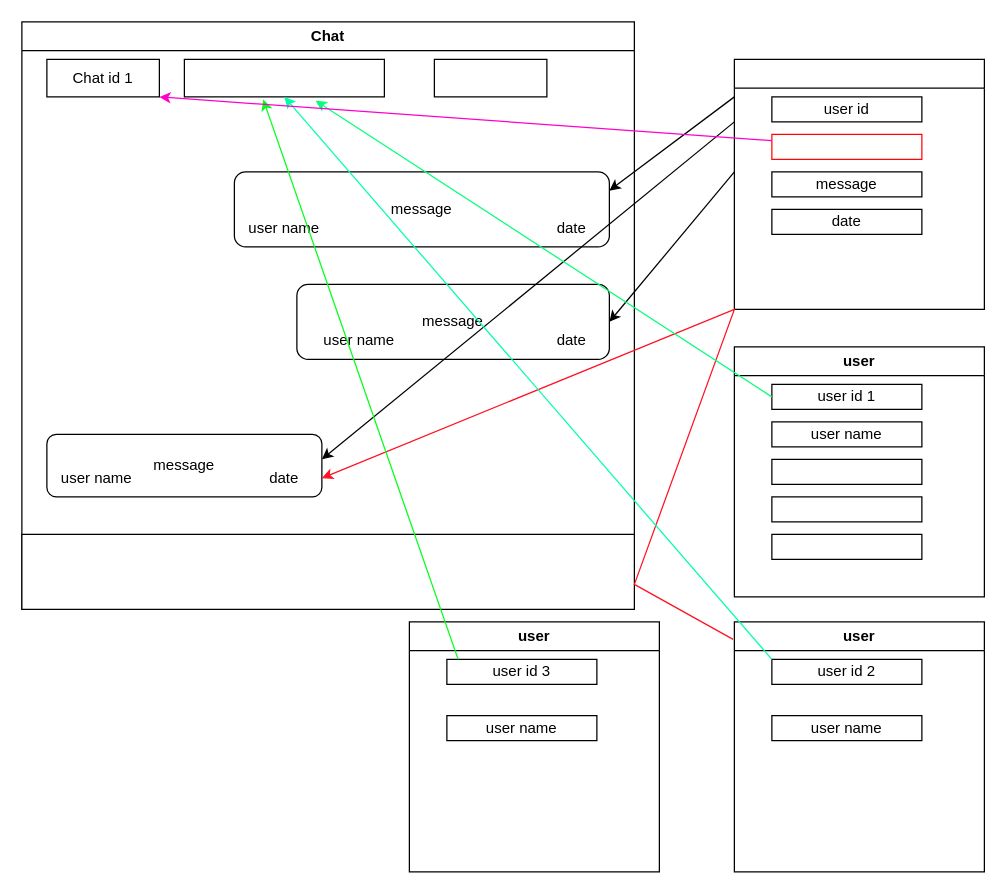
Some shapes in this 1006 by 894 pixel diagram are drawn without their labels. The box of each missing label's shape, as (x1, y1, x2, y2) in pixels:
chat id: (771, 133, 922, 159)
messame: (733, 58, 984, 309)
name chat: (433, 58, 547, 97)
user editor texr: (21, 533, 634, 609)
user id3, user id2, user id1...: (183, 58, 384, 97)
